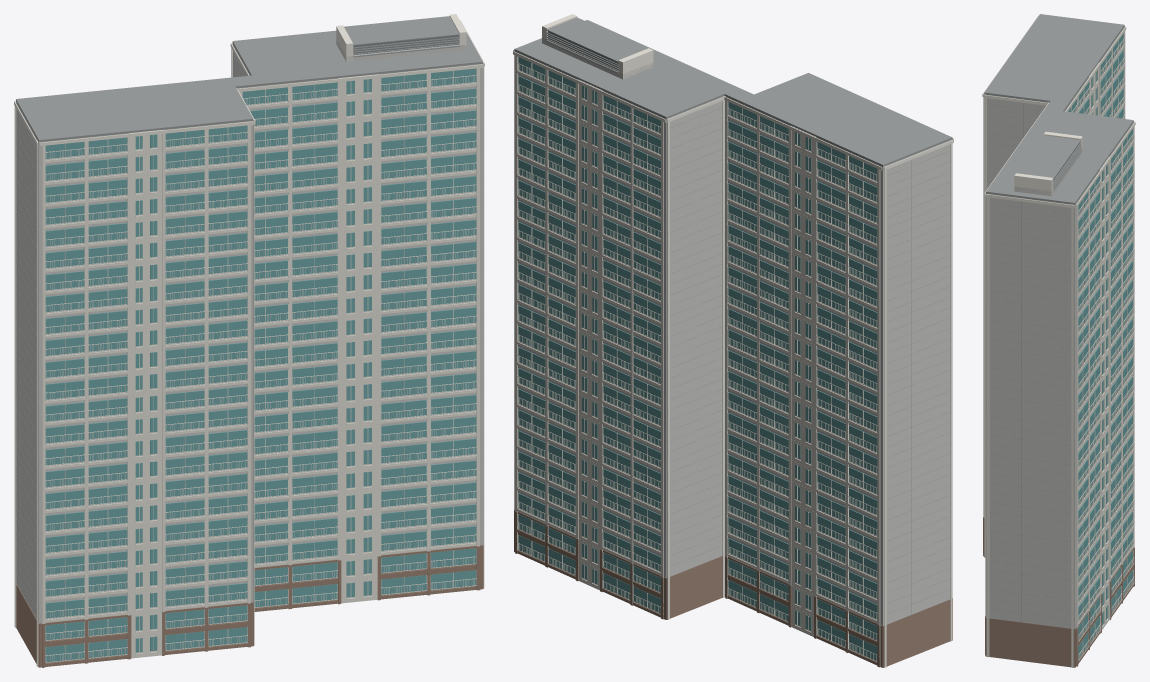
File: bespoke-jamsil-els-146.glb
The picture shows the model from 3 angles, left to right: view 1: azimuth 30°, elevation 25°; view 2: azimuth 150°, elevation 25°; view 3: azimuth 270°, elevation 25°; orthographic projection. The views are drawn at different scales.
Visible parts, largest first — view 1: Els146_editable_Els146_turquoise_balcony_glazing, Els146_editable_Els146_light_grey_solid_wall, Els146_white_exact_chunk_3, Els146_white_exact_chunk_2, Els146_white_exact_chunk_4, Els146_white_exact_chunk_1, Els146_editable_Els146_modest_grey_flat_roof_caps, Els146_white_exact_chunk_5, Els146_editable_Els146_muted_ground_wall, Els146_white_exact_chunk_6, Els146_editable_Els146_narrow_charcoal_service_strips; view 2: Els146_editable_Els146_turquoise_balcony_glazing, Els146_editable_Els146_light_grey_solid_wall, Els146_white_exact_chunk_0, Els146_white_exact_chunk_5, Els146_editable_Els146_modest_grey_flat_roof_caps, Els146_white_exact_chunk_6, Els146_white_exact_chunk_1, Els146_editable_Els146_muted_ground_wall; view 3: Els146_editable_Els146_light_grey_solid_wall, Els146_editable_Els146_modest_grey_flat_roof_caps, Els146_editable_Els146_turquoise_balcony_glazing, Els146_white_exact_chunk_5, Els146_white_exact_chunk_6, Els146_editable_Els146_muted_ground_wall, Els146_white_exact_chunk_3, Els146_white_exact_chunk_1, Els146_white_exact_chunk_0.
Boxes of the visible parts, x1,y1,x2,y2 form: Els146_editable_Els146_turquoise_balcony_glazing: (45, 68, 476, 662); Els146_editable_Els146_light_grey_solid_wall: (16, 39, 482, 636); Els146_white_exact_chunk_3: (39, 74, 378, 655); Els146_white_exact_chunk_2: (42, 129, 247, 659); Els146_white_exact_chunk_4: (239, 73, 476, 608); Els146_white_exact_chunk_1: (14, 100, 163, 666); Els146_editable_Els146_modest_grey_flat_roof_caps: (16, 16, 483, 619); Els146_white_exact_chunk_5: (237, 20, 484, 587); Els146_editable_Els146_muted_ground_wall: (16, 545, 483, 667); Els146_white_exact_chunk_6: (230, 14, 466, 77); Els146_editable_Els146_narrow_charcoal_service_strips: (353, 35, 459, 53); Els146_editable_Els146_turquoise_balcony_glazing: (518, 57, 877, 660); Els146_editable_Els146_light_grey_solid_wall: (514, 38, 952, 625); Els146_white_exact_chunk_0: (725, 97, 845, 647); Els146_white_exact_chunk_5: (513, 50, 630, 600); Els146_editable_Els146_modest_grey_flat_roof_caps: (514, 17, 952, 623); Els146_white_exact_chunk_6: (513, 14, 725, 619); Els146_white_exact_chunk_1: (723, 96, 953, 667); Els146_editable_Els146_muted_ground_wall: (514, 510, 952, 667); Els146_editable_Els146_light_grey_solid_wall: (984, 27, 1133, 628); Els146_editable_Els146_modest_grey_flat_roof_caps: (984, 14, 1133, 628); Els146_editable_Els146_turquoise_balcony_glazing: (1068, 33, 1132, 659); Els146_white_exact_chunk_5: (984, 103, 1122, 667); Els146_white_exact_chunk_6: (1014, 121, 1135, 619); Els146_editable_Els146_muted_ground_wall: (983, 517, 1134, 667); Els146_white_exact_chunk_3: (982, 15, 1048, 557); Els146_white_exact_chunk_1: (1065, 26, 1126, 118); Els146_white_exact_chunk_0: (1071, 63, 1099, 115).
Size of the model in its own units: 57.98 by 68.2 by 19.69.
